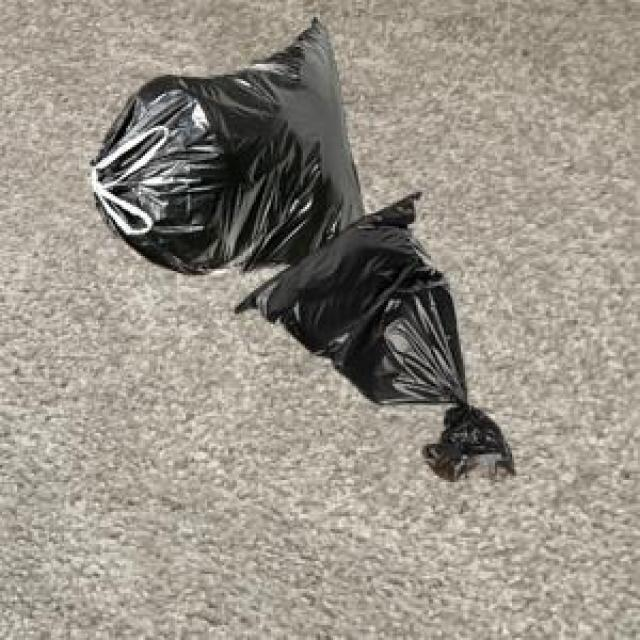Vinyl: (91, 19, 512, 479)
